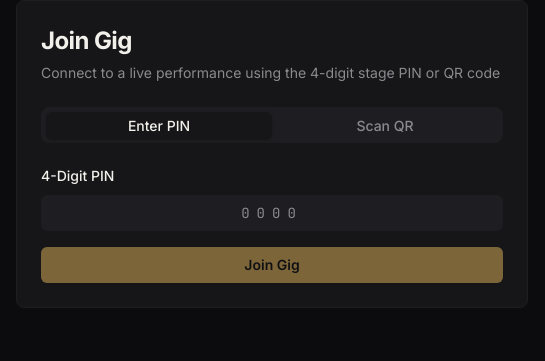
Test: JoinGigForm › displays error when no active gig matches the PIN
Type "9999" into the field labelled "4-Digit PIN".
click(272, 213); type("9999")  # box [41,195,503,231]
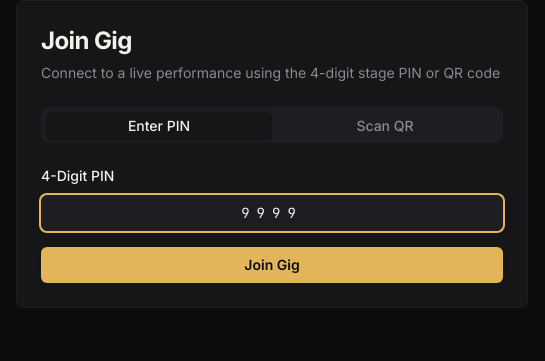
Click the button "Join Gig".
click(272, 265)  # box [41,247,503,283]
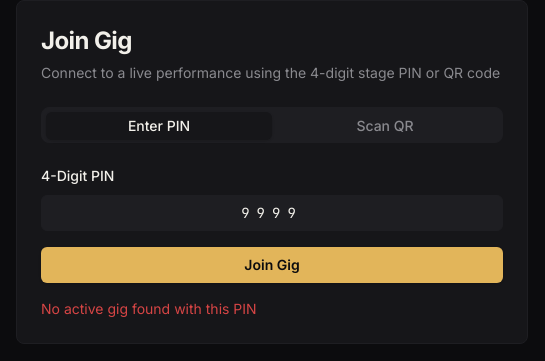
Expected: the text "No active gig found with this PIN" is shown, [41,300,257,317]
